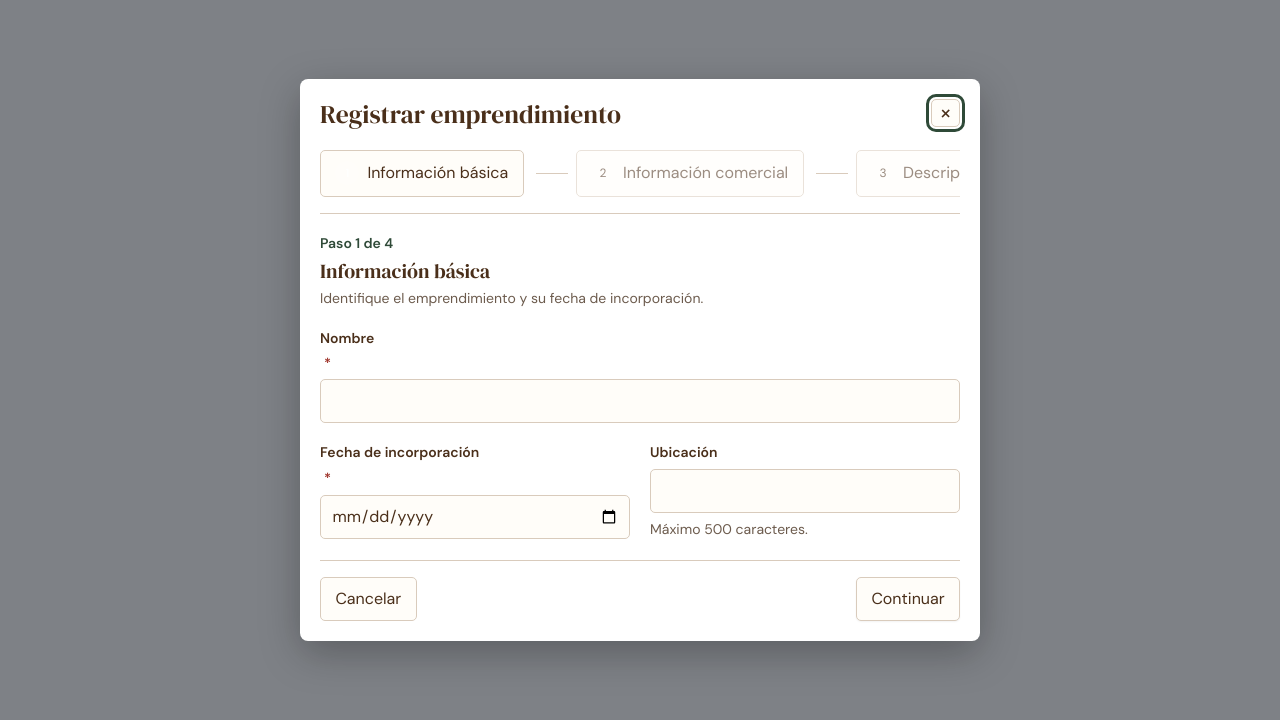
Scenario: VentureForm › handles intermediate Enter as navigation without a mutation
Type "Taller Curime" into the field labelled "Nombre *" at coordinates (640, 401), box [320,379,960,423]
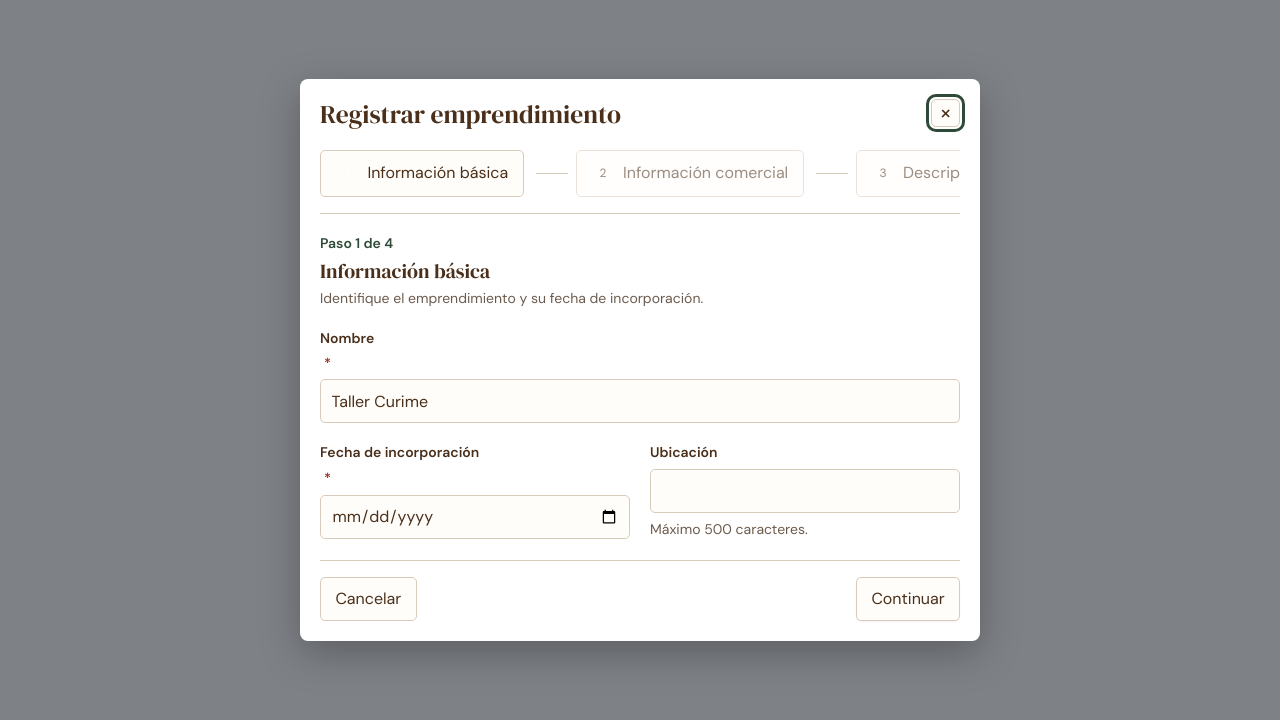
Type "2025-02-03" into the date field labelled "Fecha de incorporación *" at coordinates (475, 517), box [320,495,630,539]
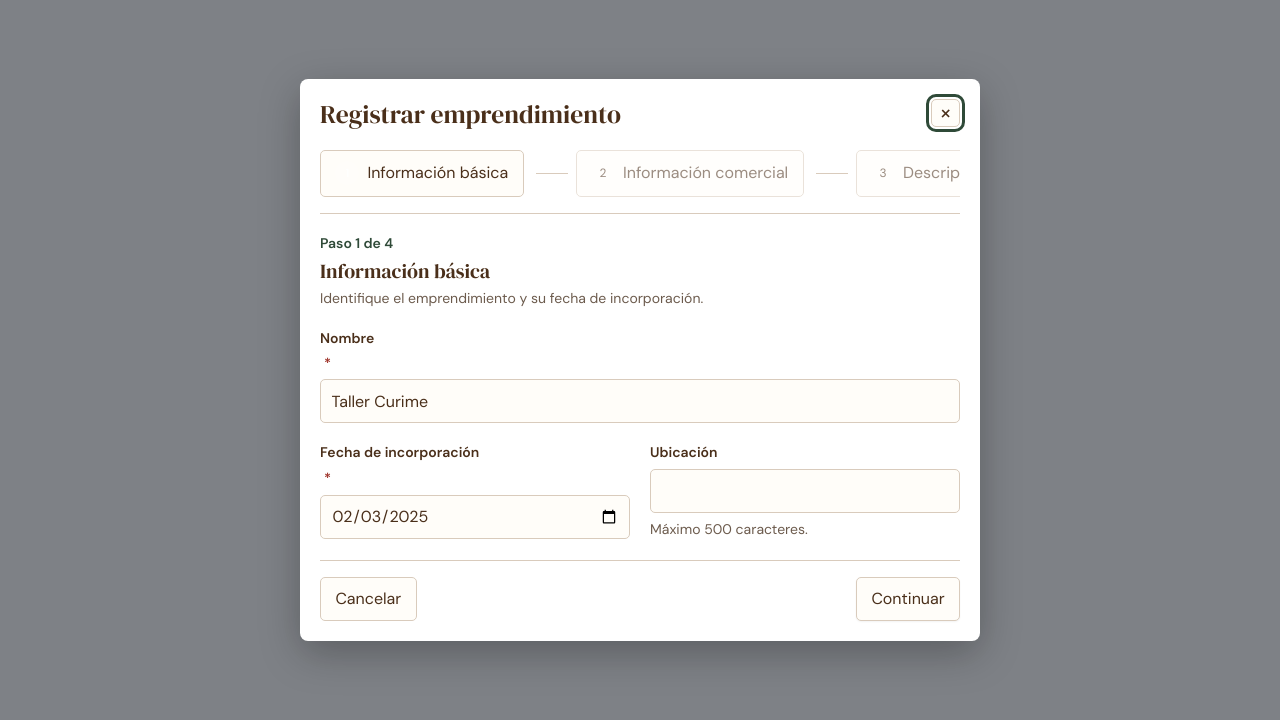
Submit the form, box [320,150,960,621]
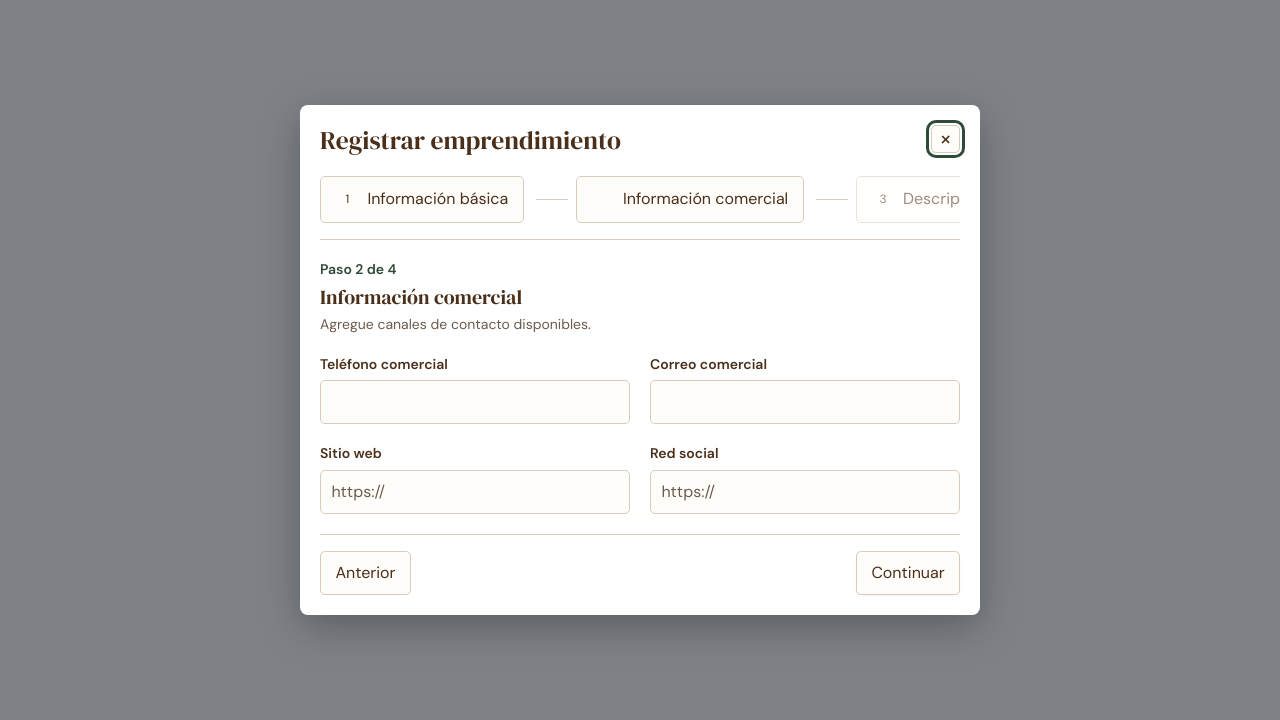
Expected: the heading "Información comercial" is shown, [320,283,522,311]
